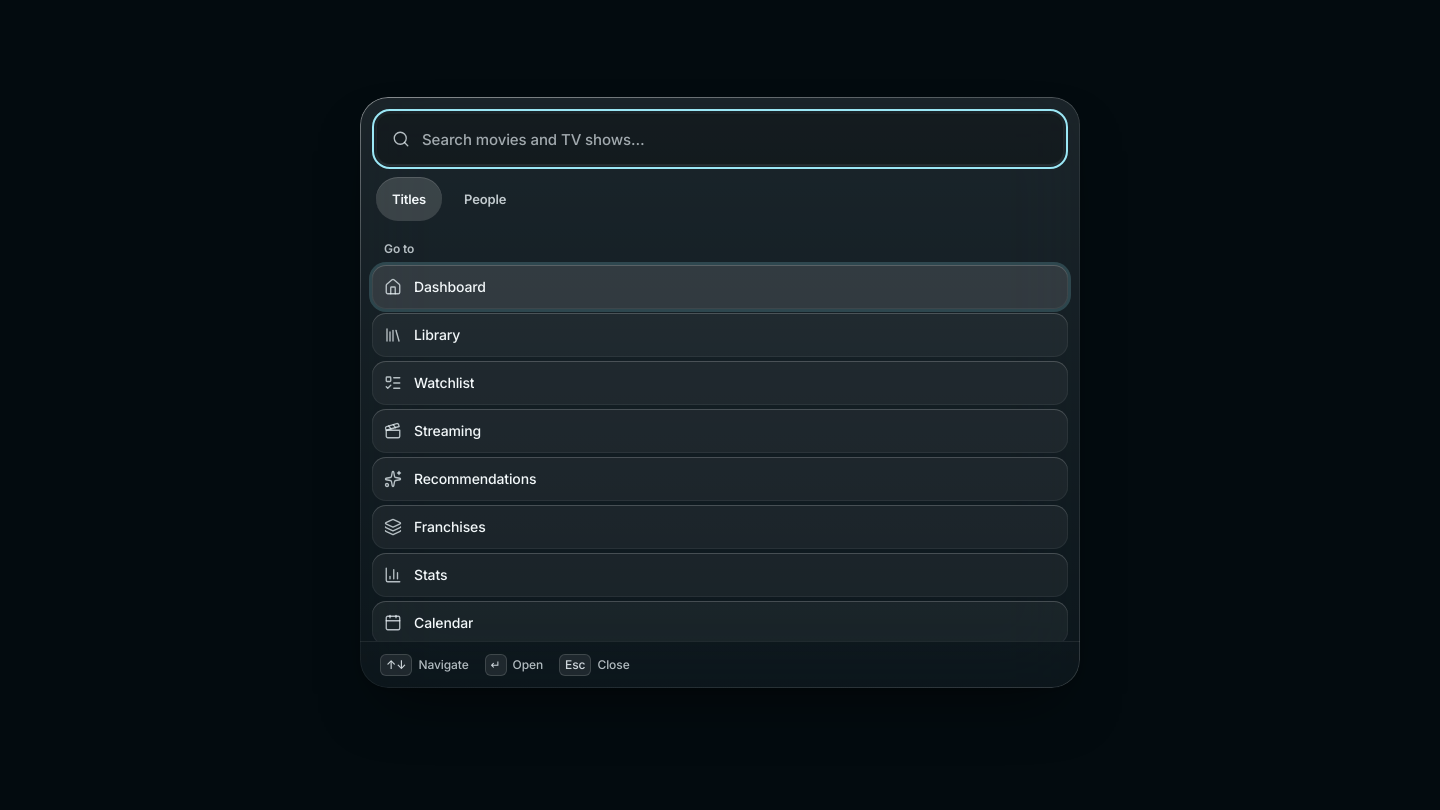
Test: SearchOverlay mode switching › drops quick nav in people mode, so there is nothing to point at
The width and height of the screenshot is (1440, 810).
Click the button "People" at [485, 199], box [448, 177, 522, 221]
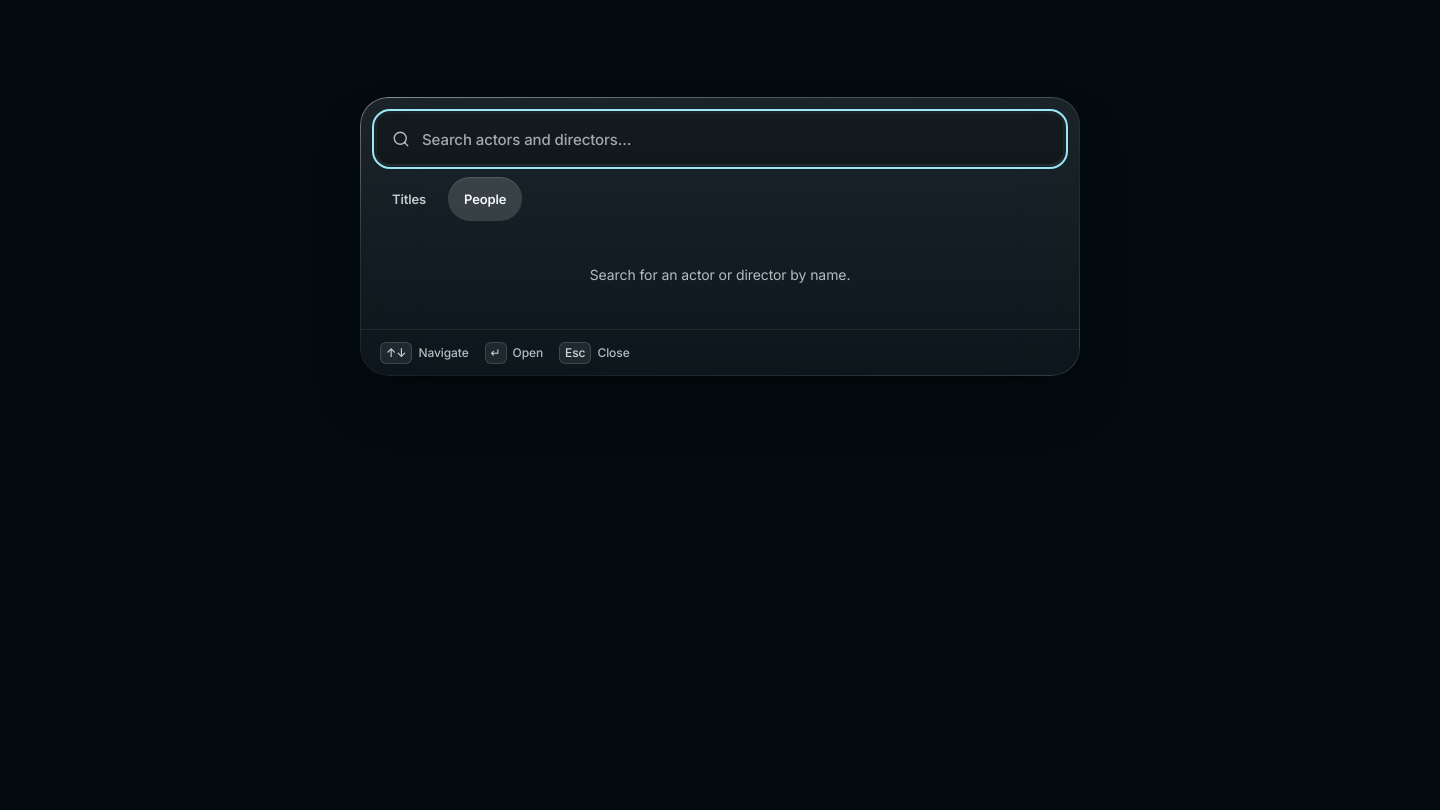
Now no options are shown
Now the dropdown is collapsed, box [376, 113, 1064, 165]
